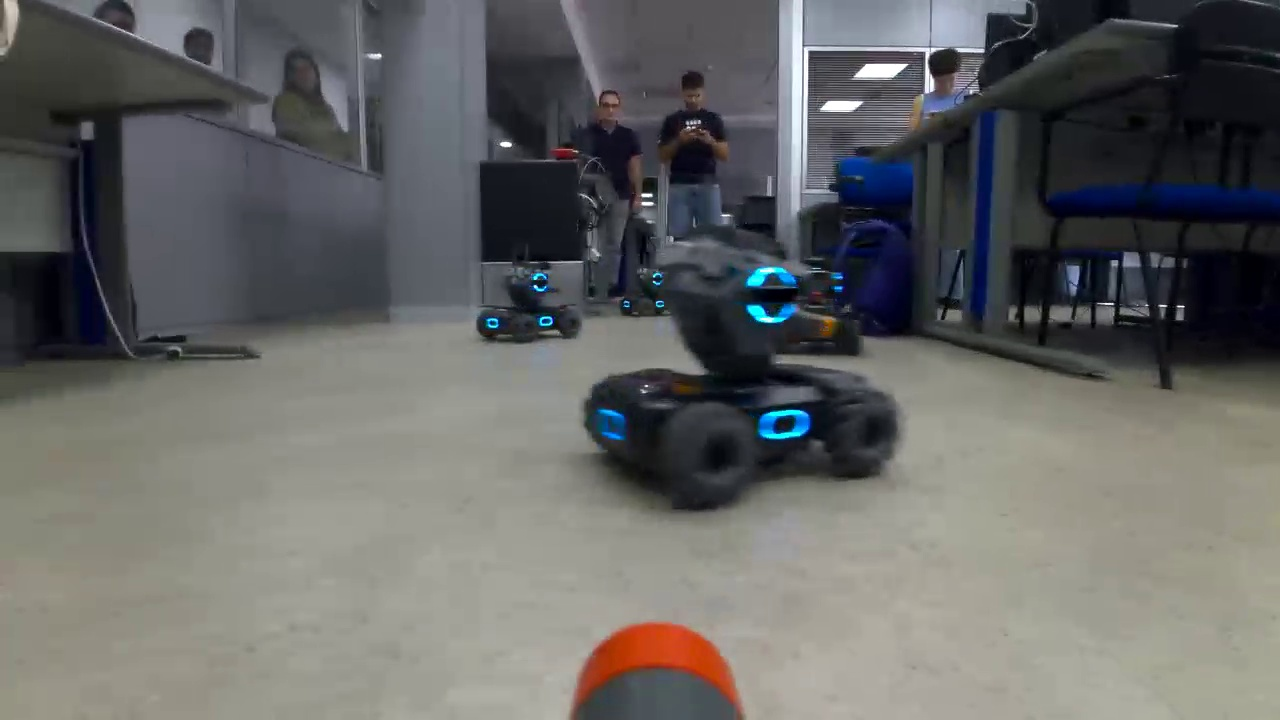robot: (572, 232, 907, 513), (769, 254, 870, 359), (475, 257, 584, 346), (615, 260, 673, 317)
